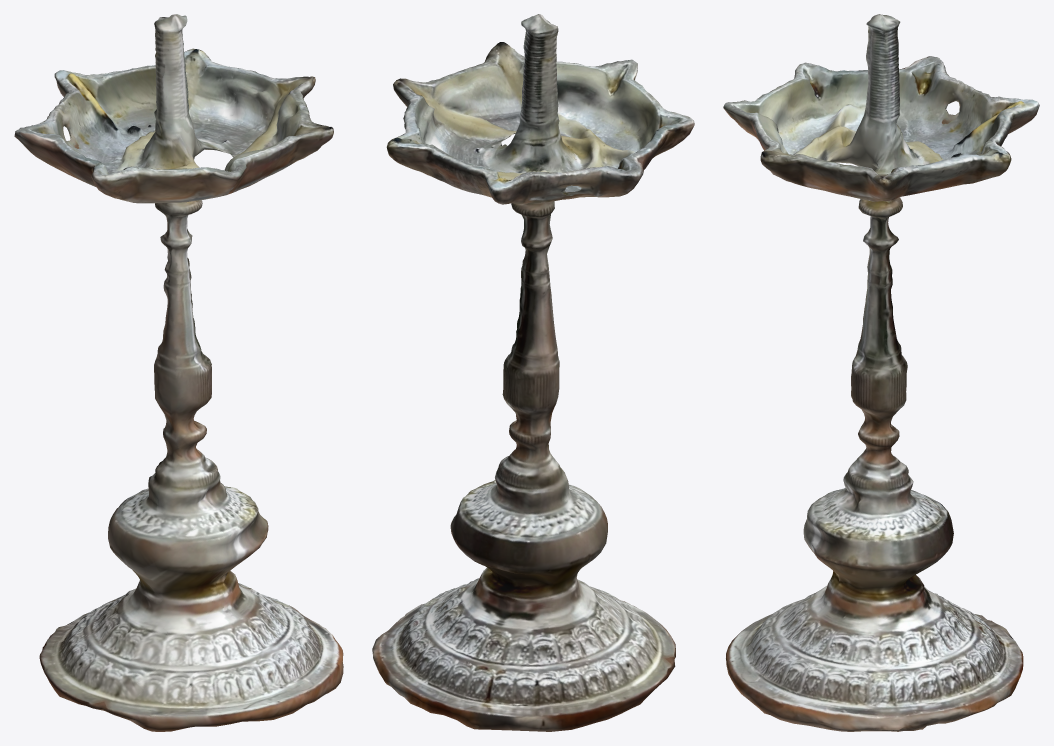
3 views of the same model, side by side, from view 1: azimuth 30°, elevation 25°; view 2: azimuth 150°, elevation 25°; view 3: azimuth 270°, elevation 25° (orthographic).
Parts seen in each view (by area): view 1: 3DModel; view 2: 3DModel; view 3: 3DModel.
Boxes of the visible parts, x1=… form: 3DModel: x1=14, y1=14, x2=343, y2=731; 3DModel: x1=372, y1=14, x2=694, y2=731; 3DModel: x1=723, y1=14, x2=1039, y2=731.
Bounding box in the file's own units: 0.3819 × 0.8853 × 0.3817.
Materials: 1 (1 with a texture image).
